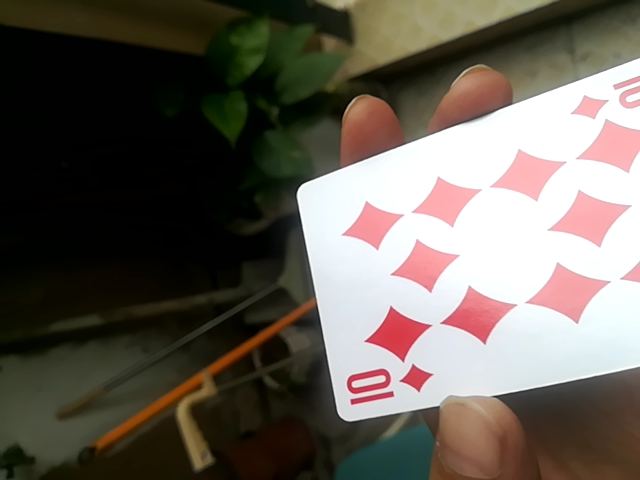fk 10: (291, 59, 638, 423)
